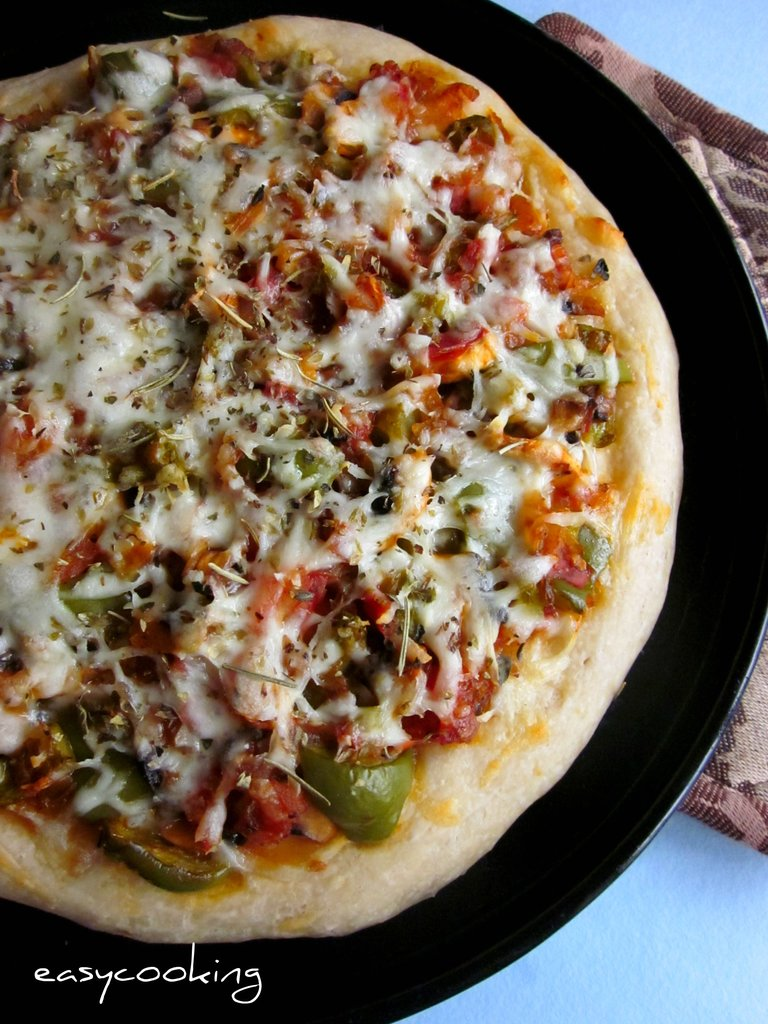Pizza: (0, 23, 711, 931)
